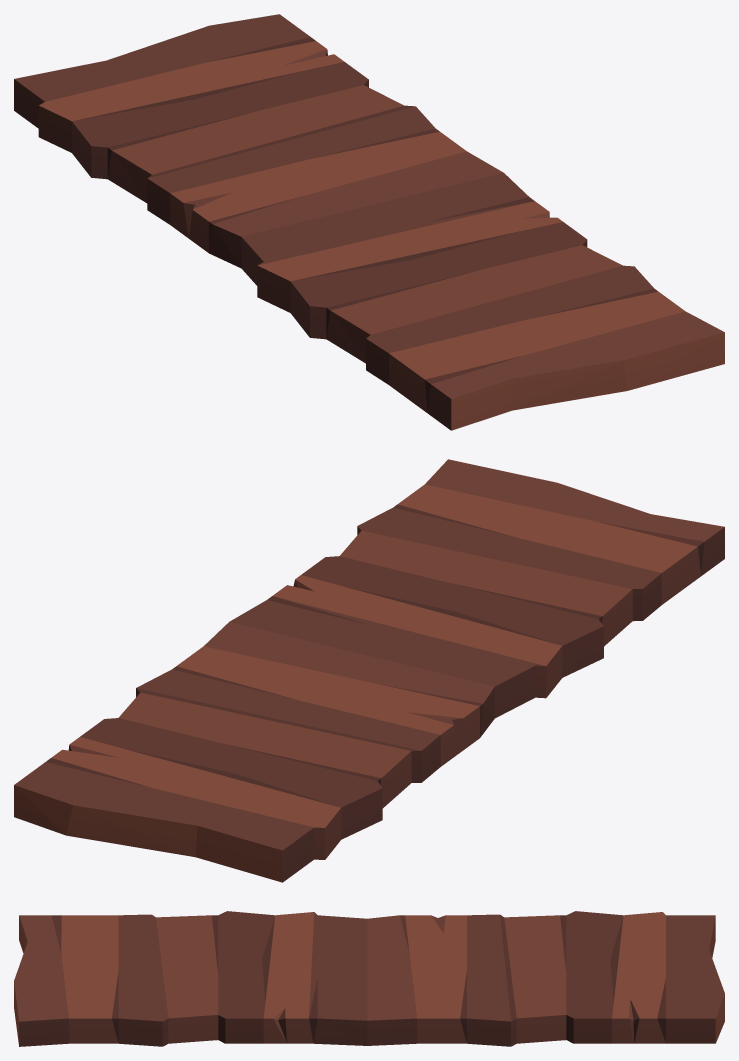
Rendered from platfrom3.glb.
3 views of the same model, one above another, from view 1: azimuth 30°, elevation 25°; view 2: azimuth 150°, elevation 25°; view 3: azimuth 270°, elevation 25° (orthographic). The views are drawn at different scales.
Visible parts, largest first — view 1: platfrom3; view 2: platfrom3; view 3: platfrom3.
Boxes of the visible parts, x1,y1,x2,y2 form: platfrom3: (14, 14, 724, 430); platfrom3: (14, 459, 724, 882); platfrom3: (14, 911, 724, 1046).
Size of the model in its own units: 1.54 by 0.164 by 4.18.
Materials: 1 (1 with a texture image).
